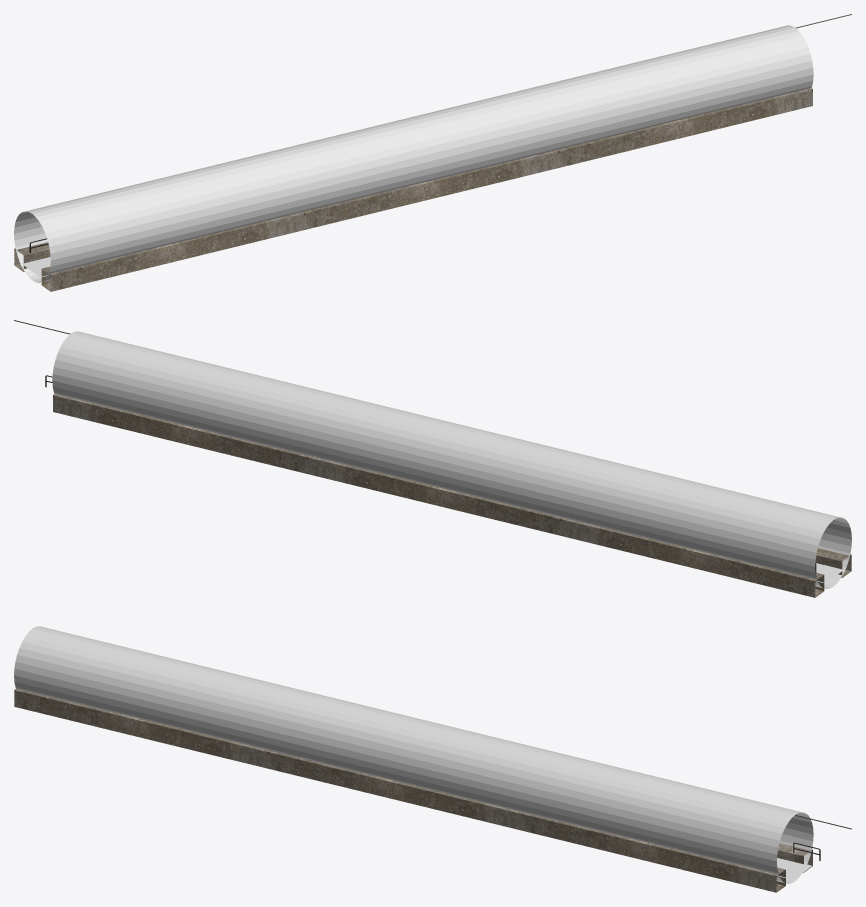
The model's file is sewer.fbx.
The picture shows the model from 3 angles, top to bottom: view 1: azimuth 30°, elevation 25°; view 2: azimuth 150°, elevation 25°; view 3: azimuth 330°, elevation 25°; orthographic projection.
Visible parts, largest first — view 1: Sienos, Cementas; view 2: Sienos, Cementas; view 3: Sienos, Cementas.
Boxes of the visible parts, x1=… form: Sienos: x1=14, y1=25, x2=813, y2=282; Cementas: x1=14, y1=88, x2=812, y2=291; Sienos: x1=52, y1=331, x2=851, y2=588; Cementas: x1=53, y1=394, x2=851, y2=597; Sienos: x1=14, y1=626, x2=813, y2=883; Cementas: x1=14, y1=688, x2=812, y2=892.
Bounding box in the file's own units: 6456 × 500 × 500.
